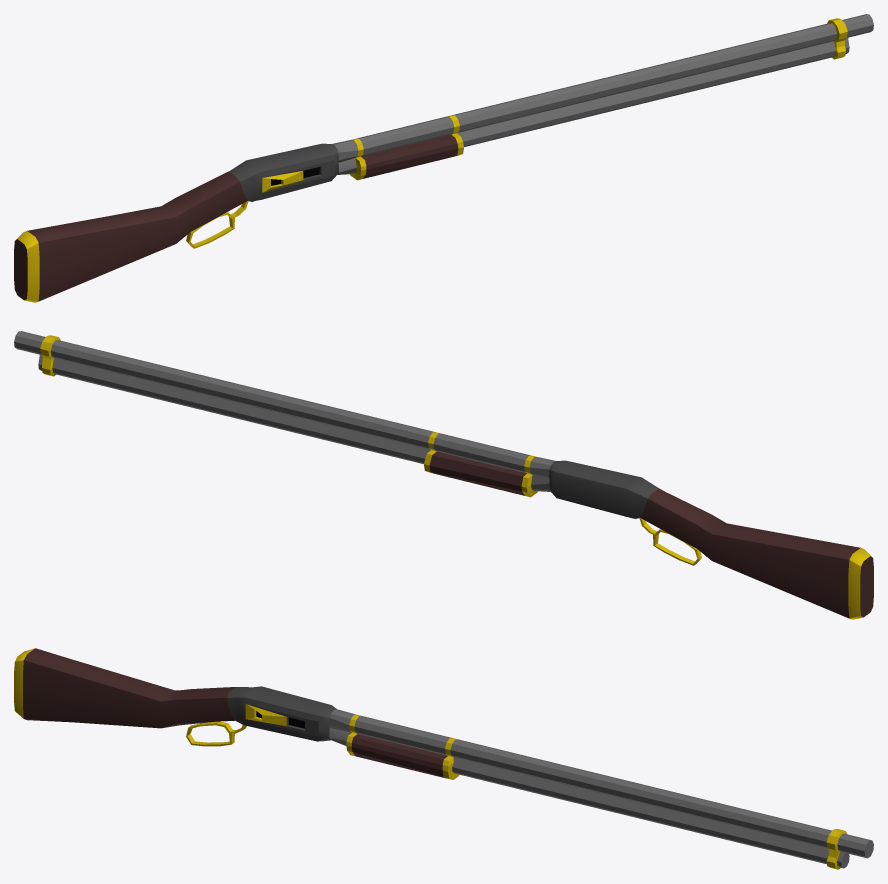
Rendered from LeverActionRifle.fbx.
3 renders of one model, top to bottom at view 1: azimuth 30°, elevation 25°; view 2: azimuth 150°, elevation 25°; view 3: azimuth 330°, elevation 25°, orthographic.
Visible parts, largest first — view 1: pCylinder4; view 2: pCylinder4; view 3: pCylinder4.
Part boxes in pixels (x1,y1,x2,y2): pCylinder4: (14, 14, 873, 302); pCylinder4: (14, 331, 873, 619); pCylinder4: (14, 648, 873, 869).
Bounding box in the file's own units: 29.48 × 2.76 × 1.14.
